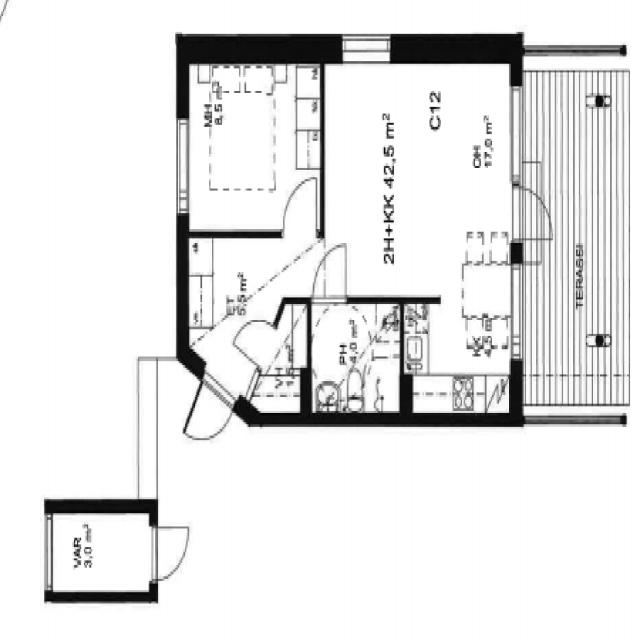door: (177, 360, 238, 449), (277, 169, 323, 243), (310, 233, 354, 308), (144, 516, 192, 584), (509, 180, 553, 242)
window: (171, 110, 195, 225), (336, 24, 398, 68), (507, 253, 529, 372), (506, 78, 528, 189), (39, 508, 59, 594)
zone: (320, 49, 514, 296), (183, 56, 324, 237), (182, 233, 311, 420), (405, 297, 514, 415), (307, 300, 404, 418)
